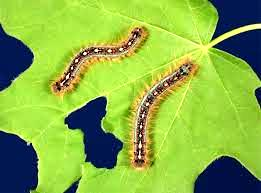Caterpillar: (127, 61, 200, 174), (49, 26, 145, 96)
